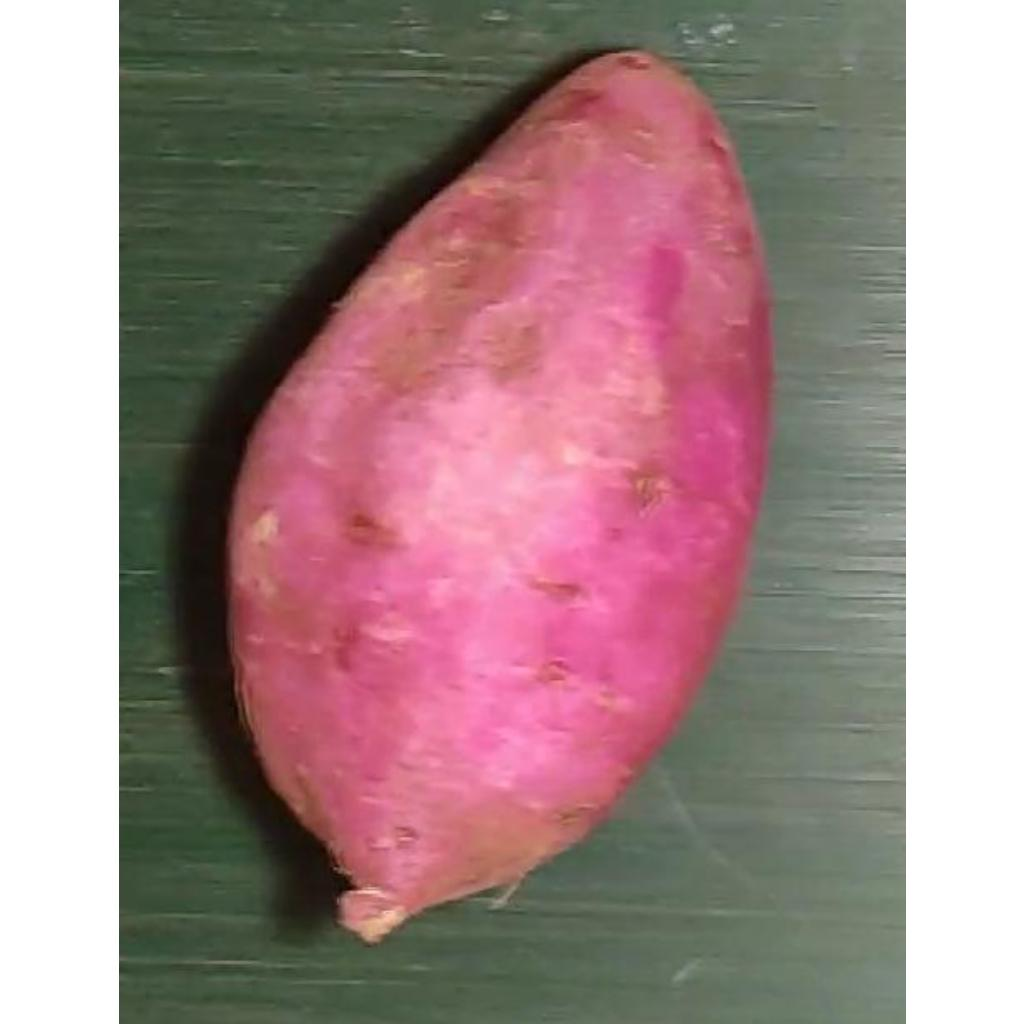Sweet Potato: (230, 50, 770, 946)
